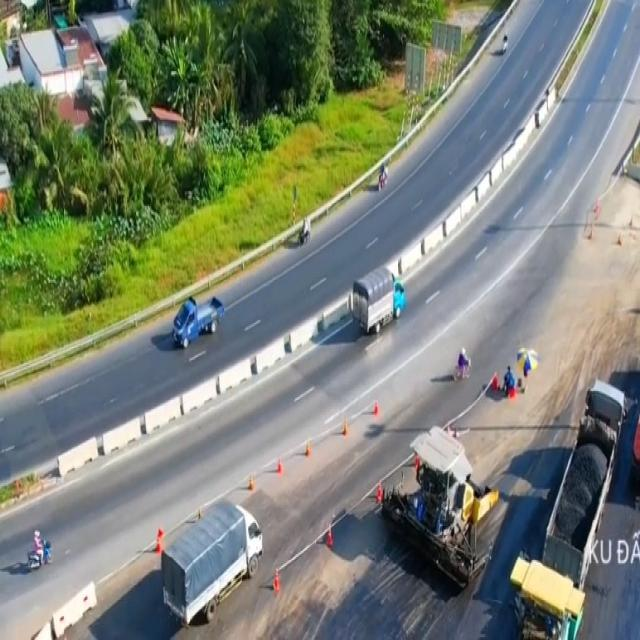truck: (158, 498, 265, 634), (350, 264, 406, 339), (173, 288, 223, 353), (26, 531, 52, 570)
